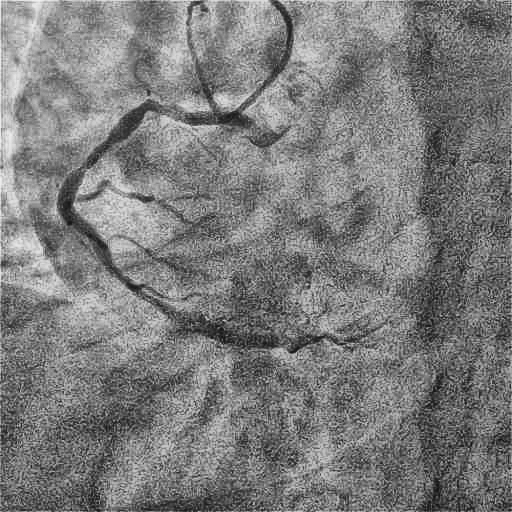rca: (57, 100, 322, 353)
